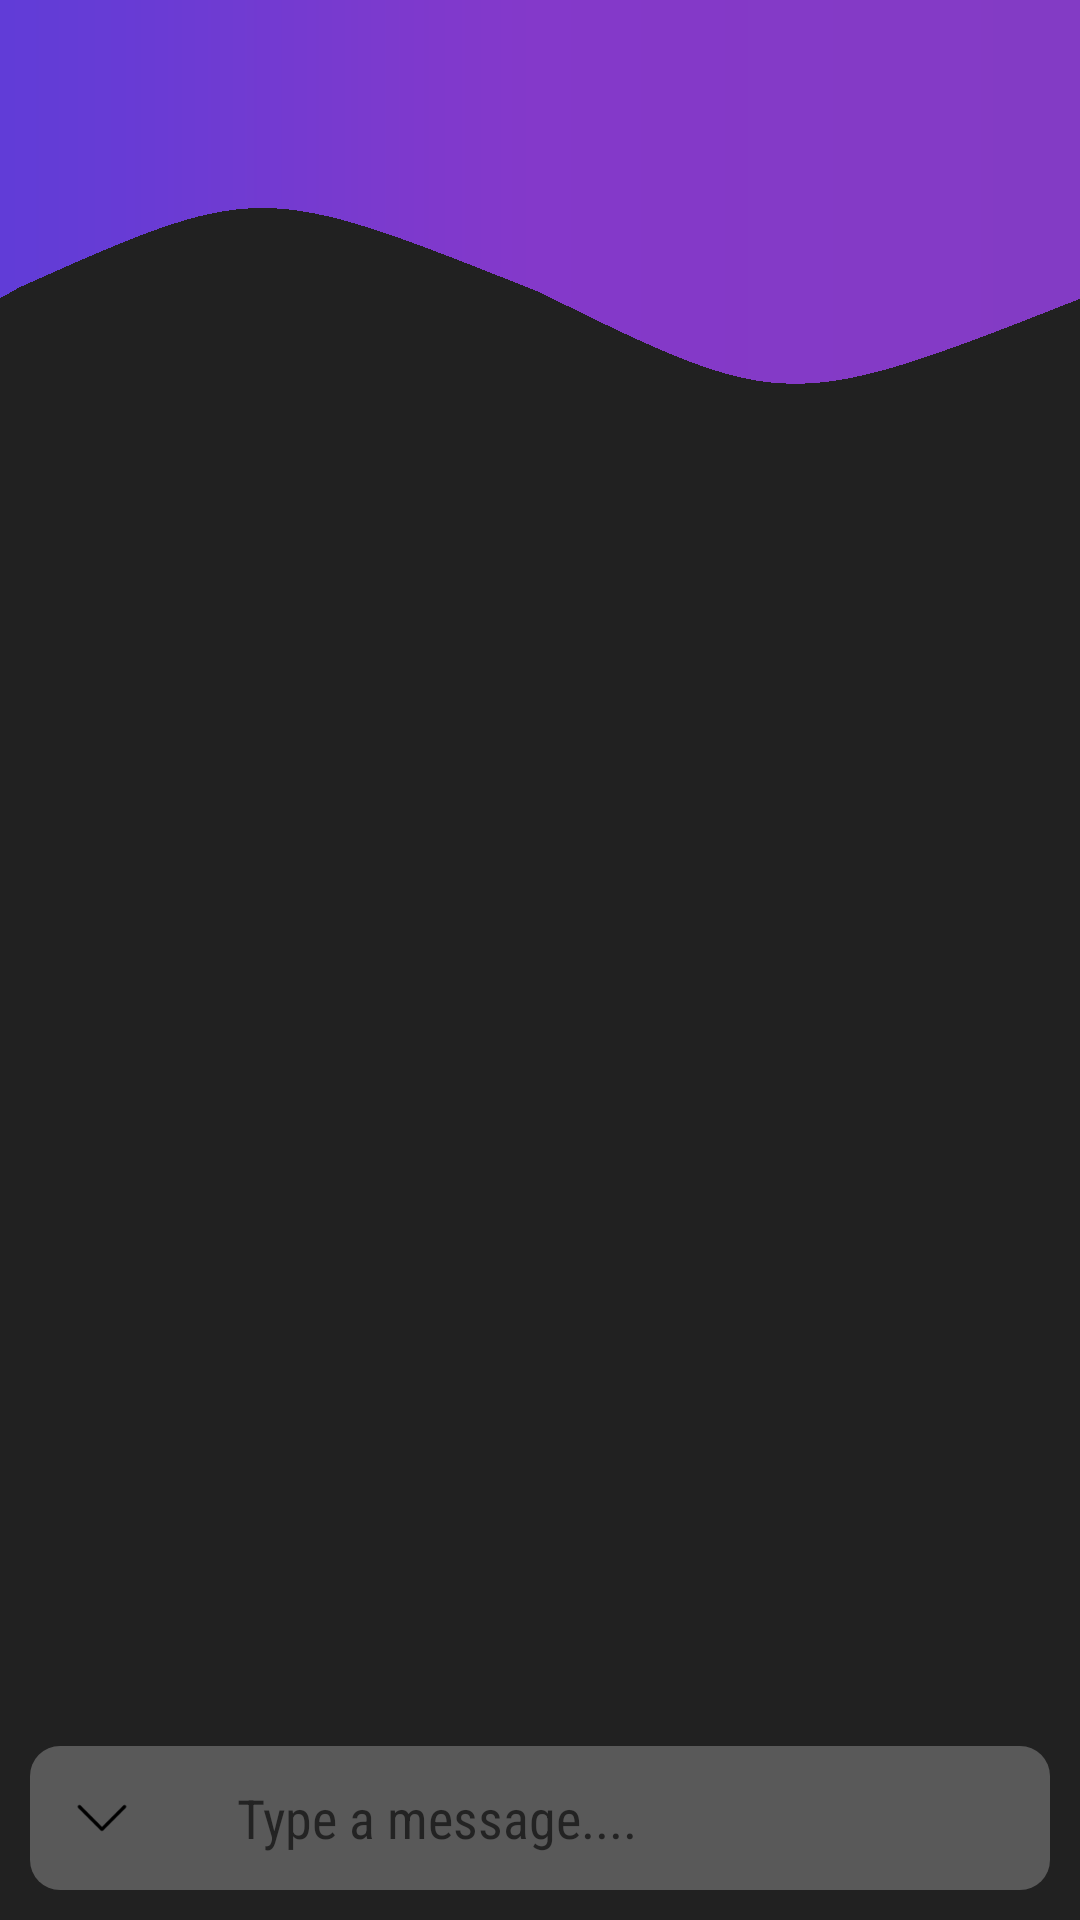

Locate icon controls on the screen. Image size 1080 × 1920, boxes as (x1, y1, x2, y2).
down: (30, 1746, 174, 1890)
